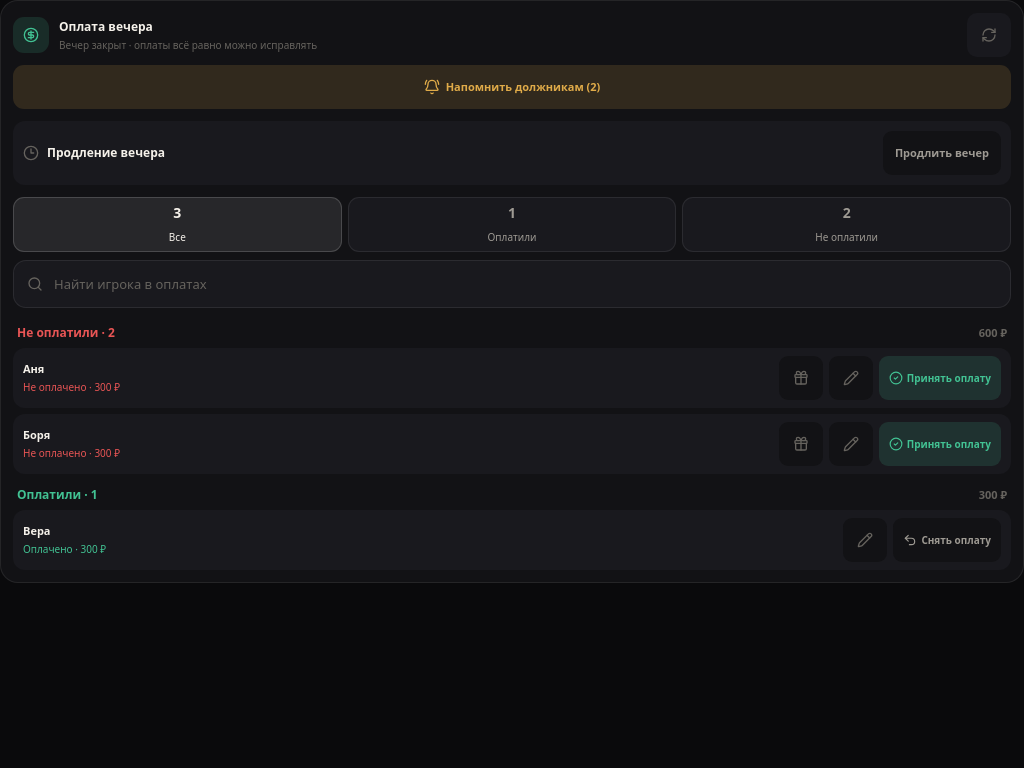
Test: payments panel: gift an evening and remind the debtors (owner, 2026-10-05) › reminds the debtors after a confirmation and reports how many messages went out
This screenshot has width=1024, height=768.
Step 1. Click the button with test id "remind-debtors" → (512, 87), box [13,65,1011,109]
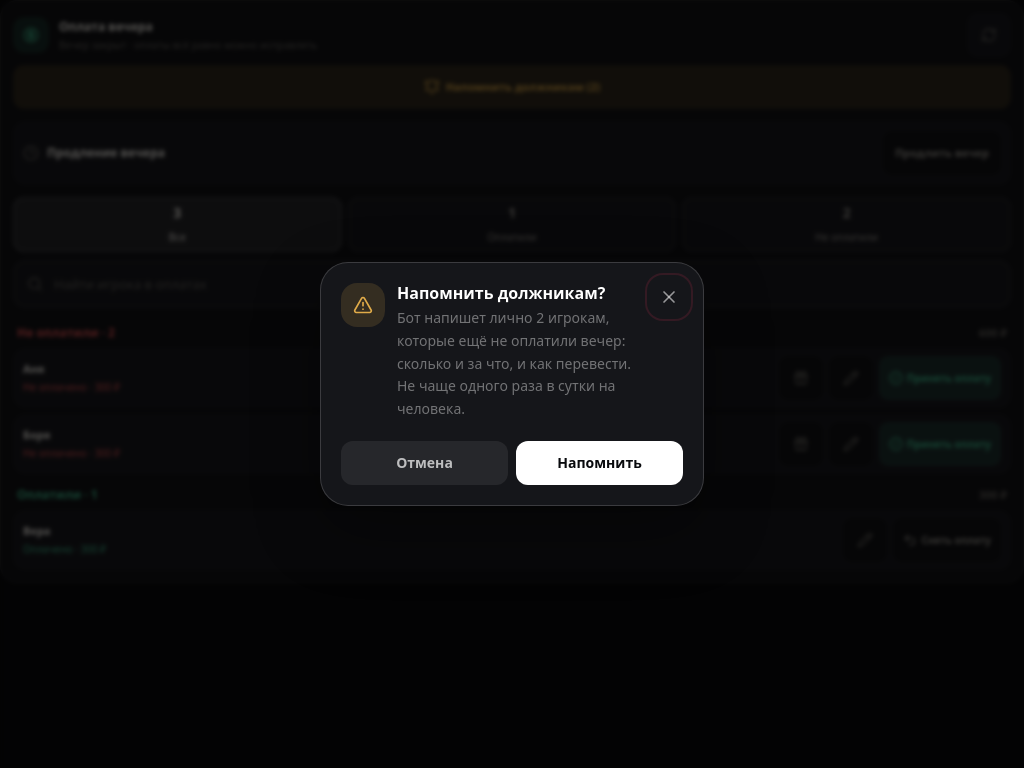
Expected: the text "Бот напишет лично 2 игрокам" is shown, [397,308,631,418]
Step 2. Click the button "Напомнить" → (600, 463), box [516,441,683,485]
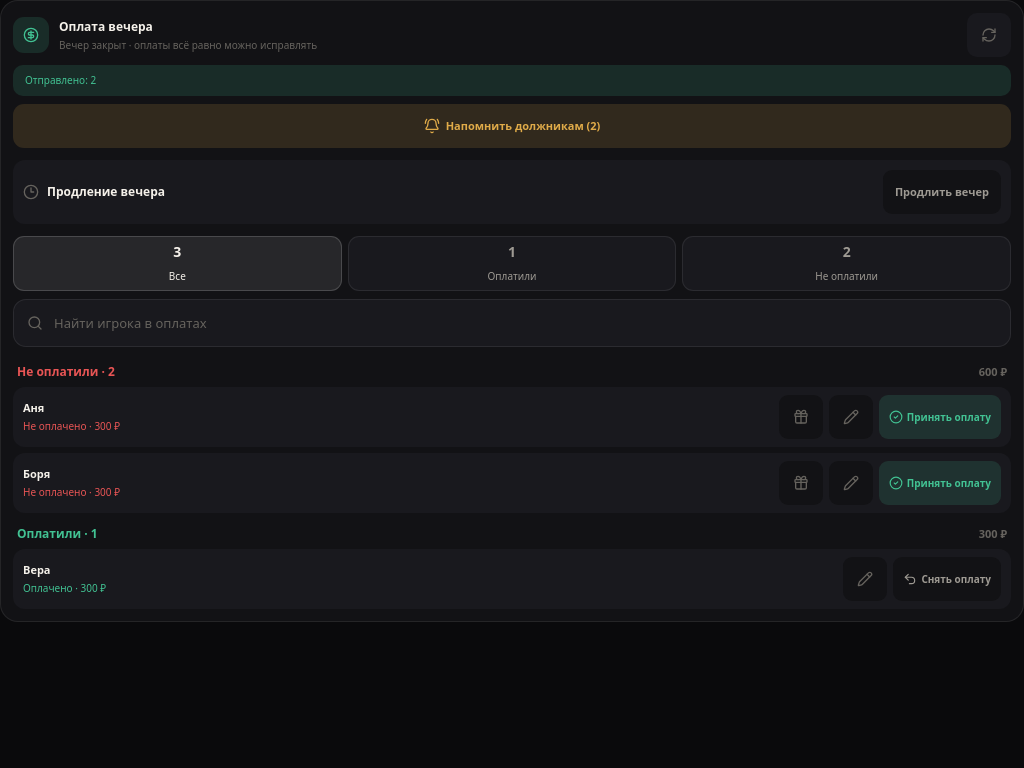
Expected: the text "Отправлено: 2" is shown, [13,65,1011,96]
